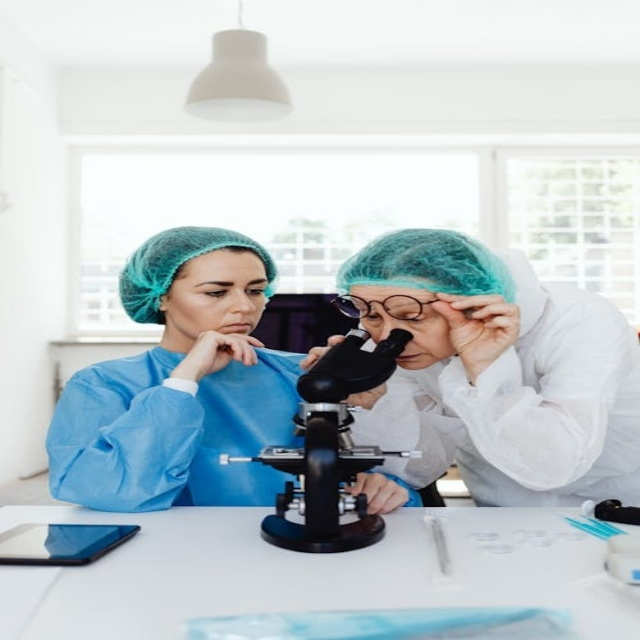Sin_gafas: (193, 280, 269, 301), (360, 311, 431, 328)
Sin_guantes: (428, 288, 527, 362), (177, 332, 269, 372), (349, 470, 413, 516)
Sin_mascara: (209, 317, 257, 332), (394, 351, 430, 366)
